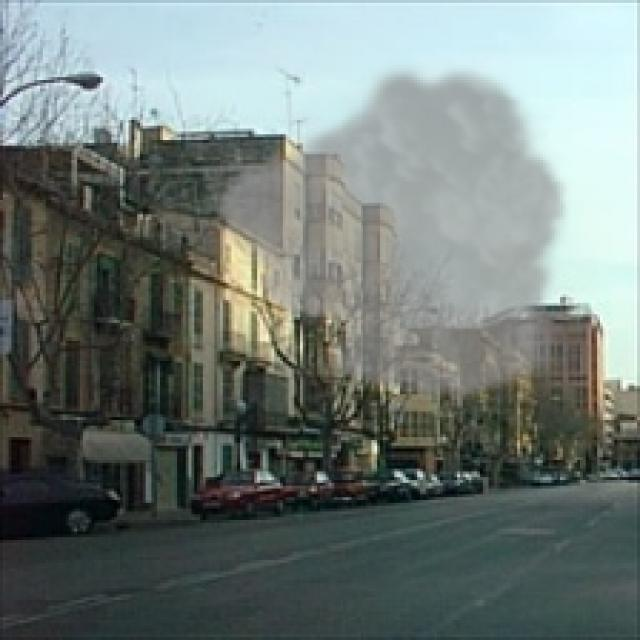smoke: (206, 57, 571, 406)
